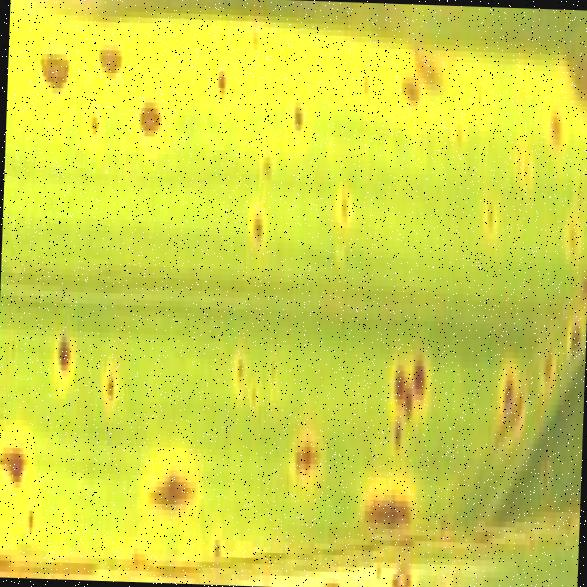Brown_Spot: (374, 313, 436, 456), (142, 441, 204, 539), (0, 390, 41, 538), (495, 324, 526, 504), (31, 0, 74, 105), (540, 76, 574, 207), (360, 466, 417, 540), (350, 30, 380, 161), (129, 73, 167, 170), (284, 406, 337, 475), (538, 302, 574, 393), (229, 308, 256, 428), (391, 9, 417, 111), (328, 165, 358, 250), (99, 321, 118, 451), (239, 0, 265, 95), (55, 290, 78, 388), (480, 176, 499, 284), (246, 173, 268, 264), (446, 90, 468, 170), (95, 32, 127, 84), (289, 74, 307, 153), (214, 42, 231, 116)
